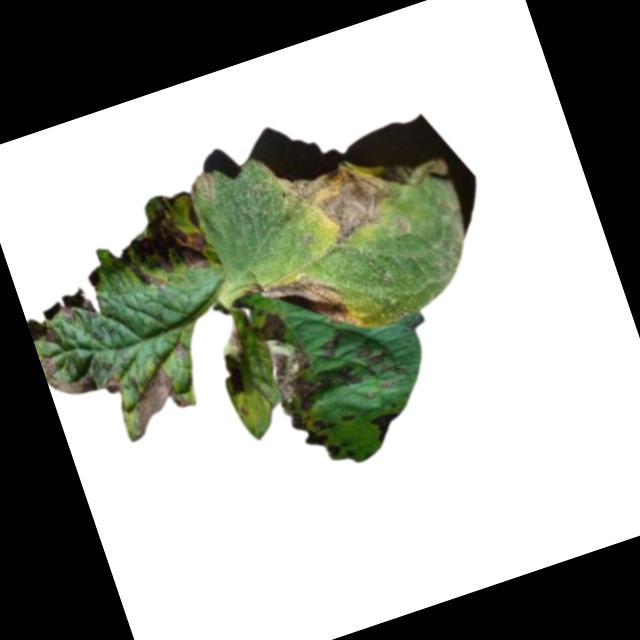Early_blight: (251, 296, 369, 435), (283, 148, 404, 258), (110, 198, 217, 300), (245, 258, 352, 349), (116, 355, 196, 440), (40, 337, 121, 411), (368, 408, 409, 448), (218, 353, 248, 400), (301, 422, 331, 450), (55, 304, 78, 327)
